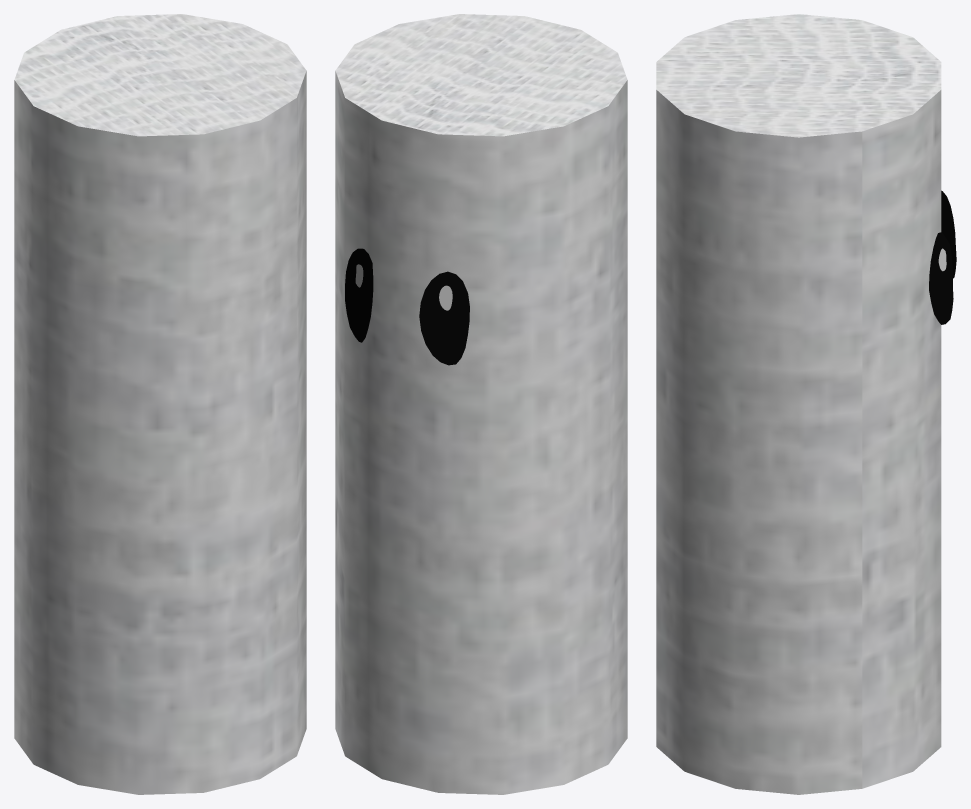
Rendered from sandbagfuk.fbx.
3 views of the same model, side by side, from view 1: azimuth 30°, elevation 25°; view 2: azimuth 150°, elevation 25°; view 3: azimuth 270°, elevation 25° (orthographic).
Parts seen in each view (by area): view 1: pCylinder1; view 2: pCylinder1, pCylinder4, pCylinder3; view 3: pCylinder1, pCylinder3, pCylinder4.
Part boxes in pixels (x1=…): pCylinder1: x1=14, y1=14, x2=306, y2=794; pCylinder1: x1=335, y1=14, x2=627, y2=794; pCylinder4: x1=419, y1=271, x2=469, y2=365; pCylinder3: x1=345, y1=248, x2=373, y2=342; pCylinder1: x1=656, y1=14, x2=941, y2=794; pCylinder3: x1=929, y1=232, x2=953, y2=324; pCylinder4: x1=941, y1=190, x2=956, y2=278.
Size of the model in its own units: 2.92 by 7.24 by 3.
3 materials, 1 textured.
